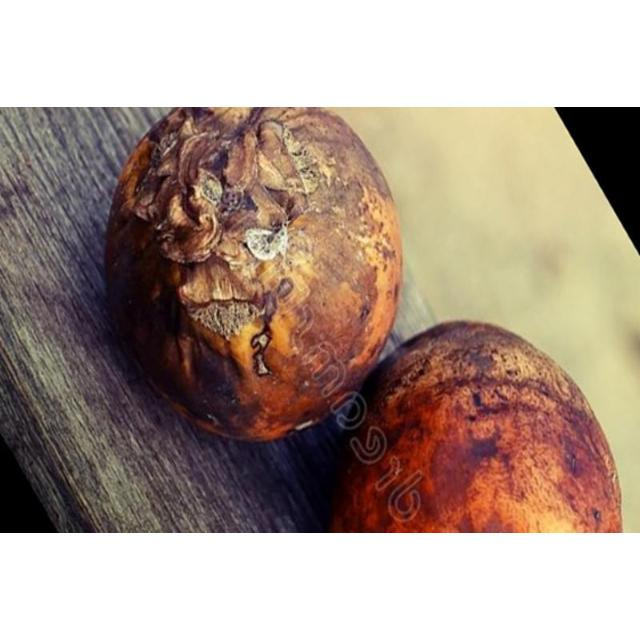damaged: (102, 107, 625, 533)
